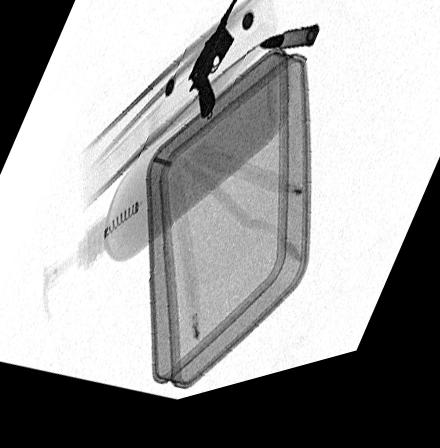Bullet: (256, 41, 318, 66)
Gun: (188, 0, 245, 132)
